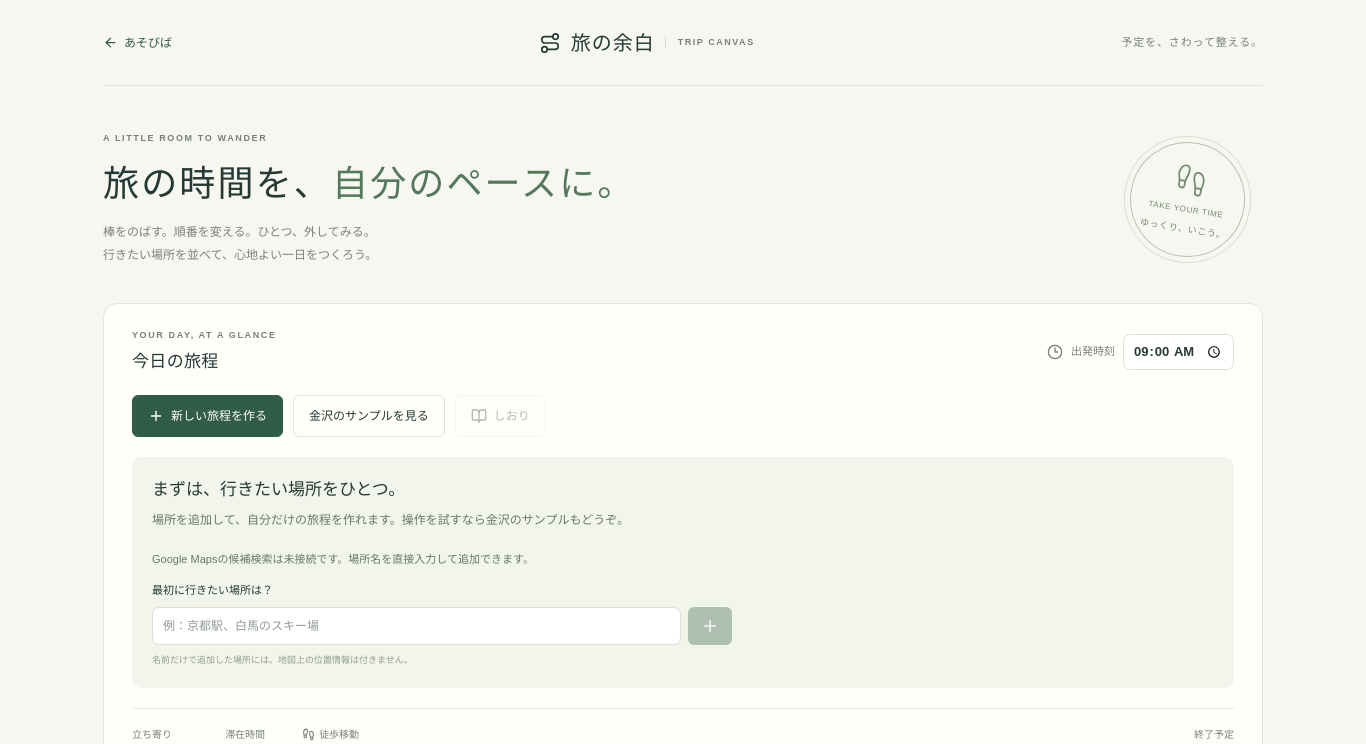
Test: Google Placesの候補検索 › キー未設定では検索を呼ばず、履歴・入力例の候補を出さずに手入力できる
The width and height of the screenshot is (1366, 744).
Check: the text "Google Mapsの候補検索は未接続です。場所名を直接入力して追加できます。" is shown, box [152,553,534,565]
Step 1. Type "姫路城" into the field labelled "最初に行きたい場所は？" → [416, 626], box [152,607,681,645]
Then press Enter
(page scrolled)
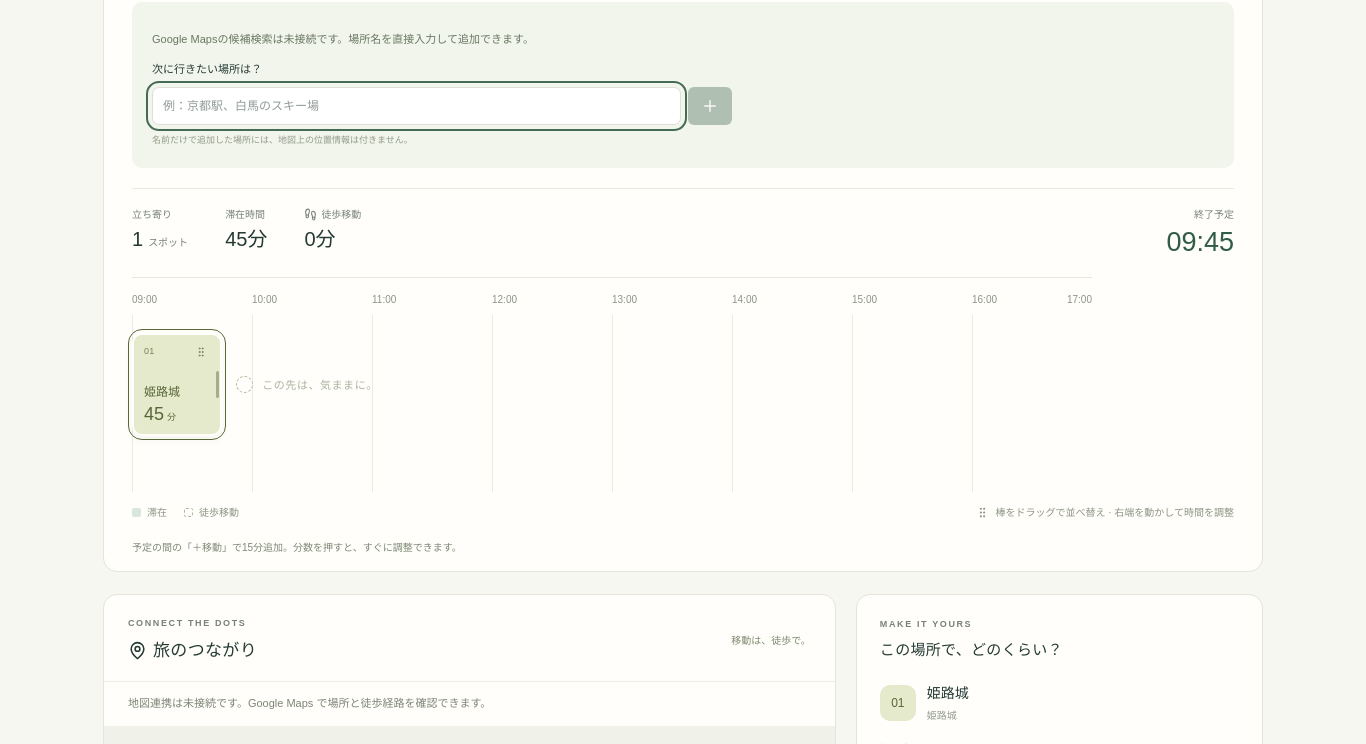
Check: the button with aria-label "姫路城、滞在45分" is shown, box [134,335,220,434]
